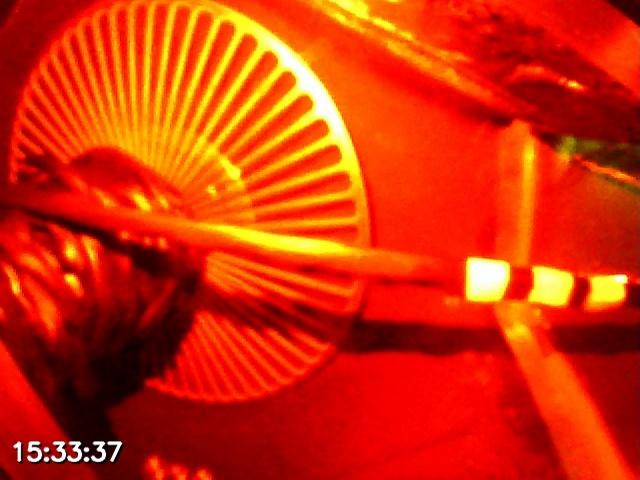white-dots: (464, 255, 629, 311)
